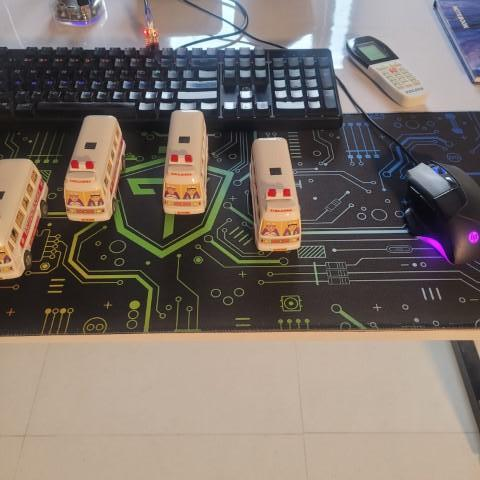ambulance: (246, 131, 307, 257), (64, 112, 129, 222), (164, 105, 214, 219)
